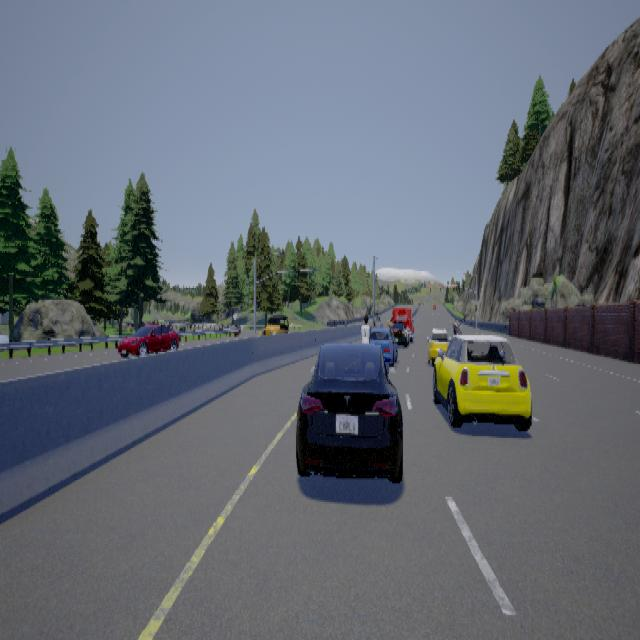red_light: (452, 285, 454, 290)
traffic_light: (474, 303, 476, 310)
vehicle: (295, 306, 413, 482), (426, 322, 531, 429), (117, 324, 178, 356)
